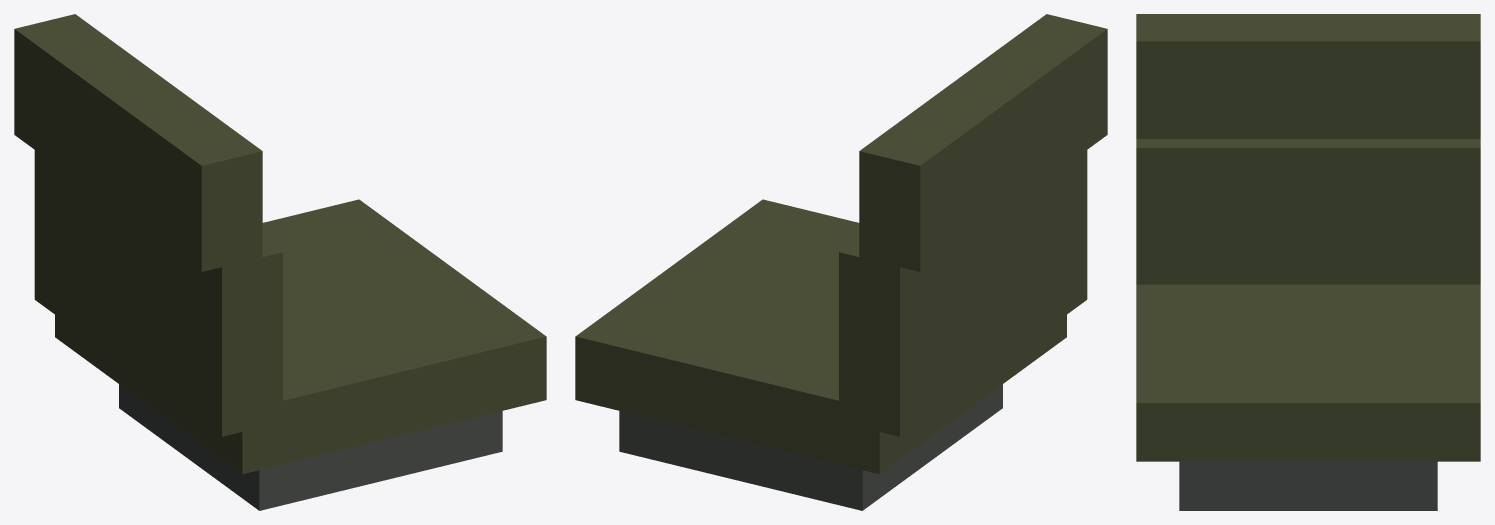
The model's file is army_jeep_seat.glb.
3 views of the same model, side by side, from view 1: azimuth 30°, elevation 25°; view 2: azimuth 150°, elevation 25°; view 3: azimuth 270°, elevation 25° (orthographic). The views are drawn at different scales.
Parts seen in each view (by area): view 1: body:compound; view 2: body:compound; view 3: body:compound.
Boxes of the visible parts, x1,y1,x2,y2 form: body:compound: [14, 14, 546, 510]; body:compound: [575, 14, 1107, 510]; body:compound: [1136, 14, 1480, 510].
Size of the model in its own units: 0.5312 by 0.5625 by 0.5.
